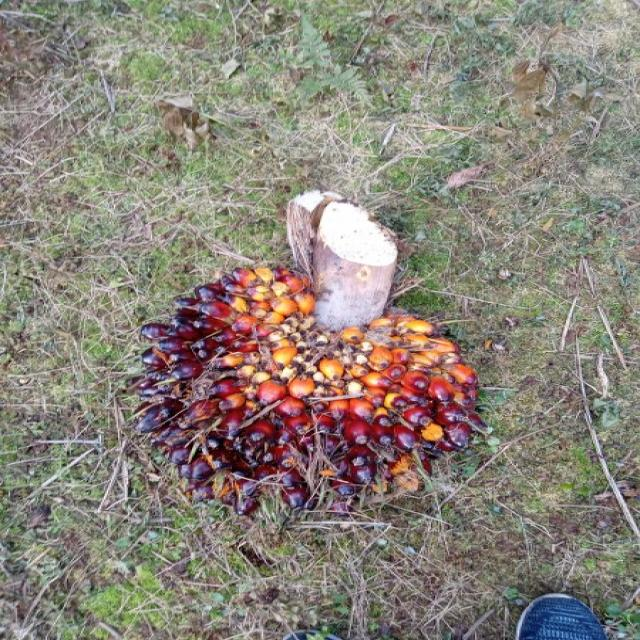fraksi 1: (57, 168, 547, 587)
